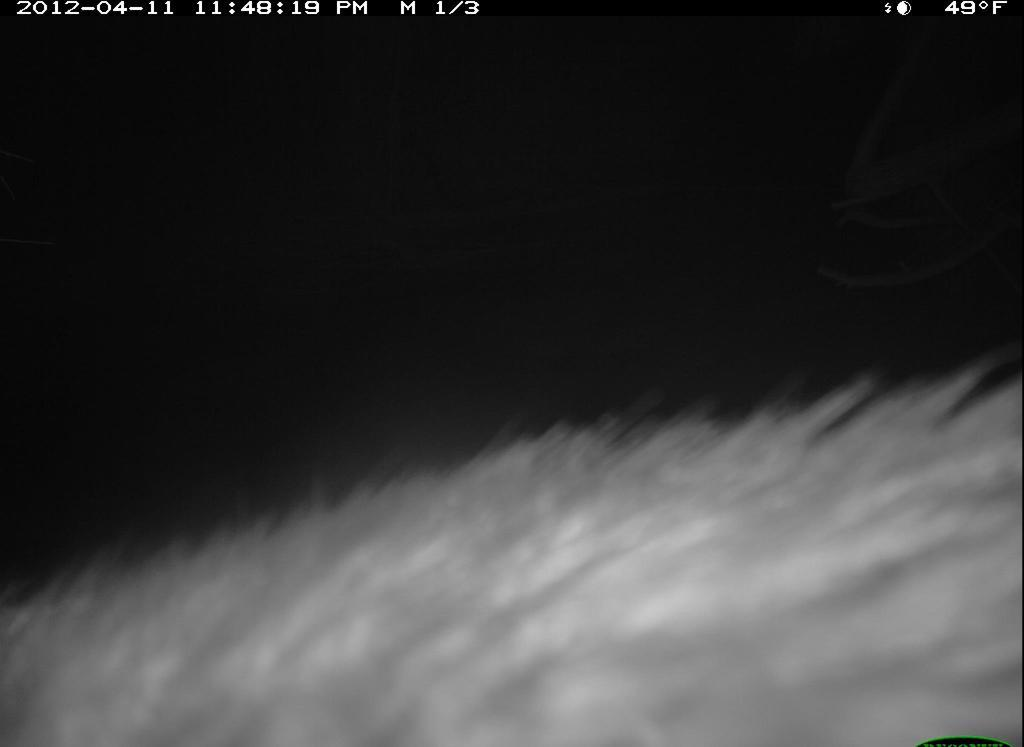raccoon: (4, 354, 1021, 747)
